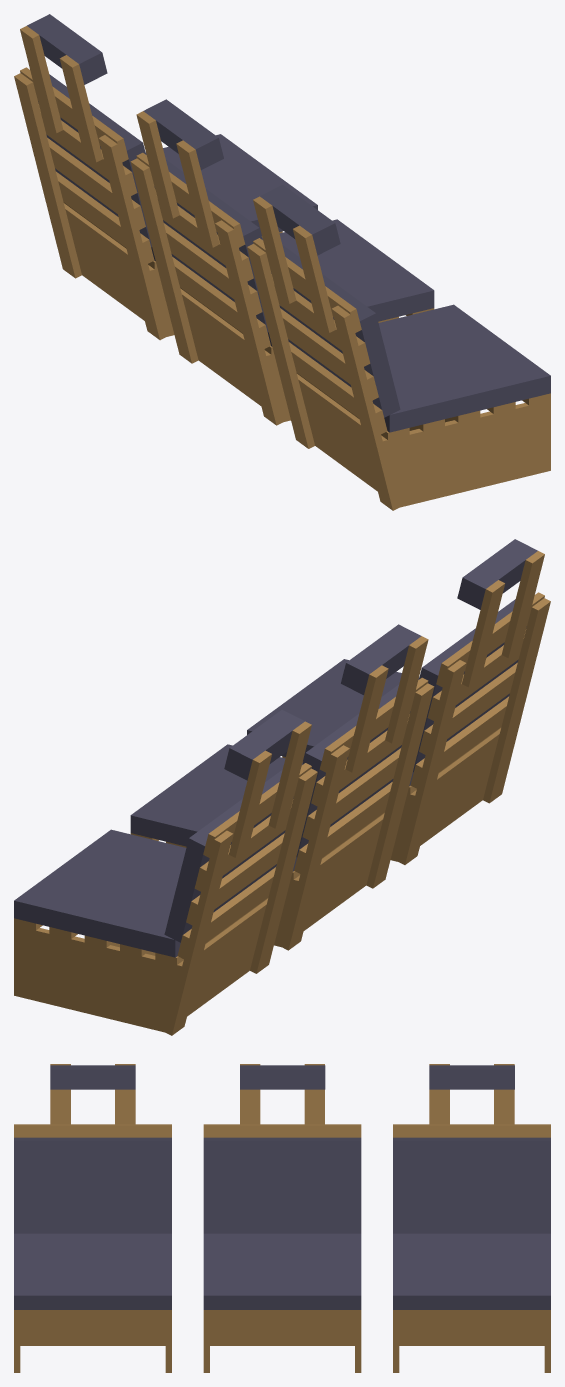
The model's file is biblioteca.glb.
3 views of the same model, one above another, from view 1: azimuth 30°, elevation 25°; view 2: azimuth 150°, elevation 25°; view 3: azimuth 270°, elevation 25° (orthographic). The views are drawn at different scales.
Visible parts, largest first — view 1: Body1, Body16, Body20, Body32, Body49, Body37, Body7, Body26, Body8, Body25, Body42, Body43 (+24 smaller); view 2: Body49, Body37, Body20, Body32, Body1, Body16, Body42, Body26, Body25, Body43, Body8, Body7 (+24 smaller); view 3: Body24, Body17, Body41, Body20, Body16, Body37, Body32, Body1, Body49, Body21, Body11, Body38 (+12 smaller).
Boxes of the visible parts, x1,y1,x2,y2 form: Body1: (297,374,550,507); Body16: (378,304,550,432); Body20: (262,219,434,346); Body32: (180,288,290,422); Body49: (64,203,174,336); Body37: (145,134,317,261); Body7: (247,243,314,448); Body26: (215,220,282,425); Body8: (331,305,399,510); Body25: (130,158,198,363); Body42: (14,73,81,278); Body43: (98,135,166,340); Body49: (14,899,267,1032); Body37: (14,829,186,957); Body20: (130,744,302,871); Body32: (274,813,384,947); Body1: (390,728,500,861); Body16: (247,659,419,786); Body42: (165,830,233,1035); Body26: (366,683,434,888); Body25: (282,745,349,950); Body43: (250,768,317,973); Body8: (483,598,550,803); Body7: (398,660,466,864); Body24: (203,1137,361,1233); Body17: (14,1137,171,1233); Body41: (393,1137,550,1233); Body20: (203,1233,361,1309); Body16: (14,1233,171,1309); Body37: (393,1233,550,1309); Body32: (203,1315,361,1372); Body1: (14,1315,171,1372); Body49: (393,1315,550,1372); Body21: (203,1124,361,1137); Body11: (14,1124,171,1137); Body38: (393,1124,550,1137).
Bounding box in the file's own units: 0.6639 × 0.796 × 1.7.
